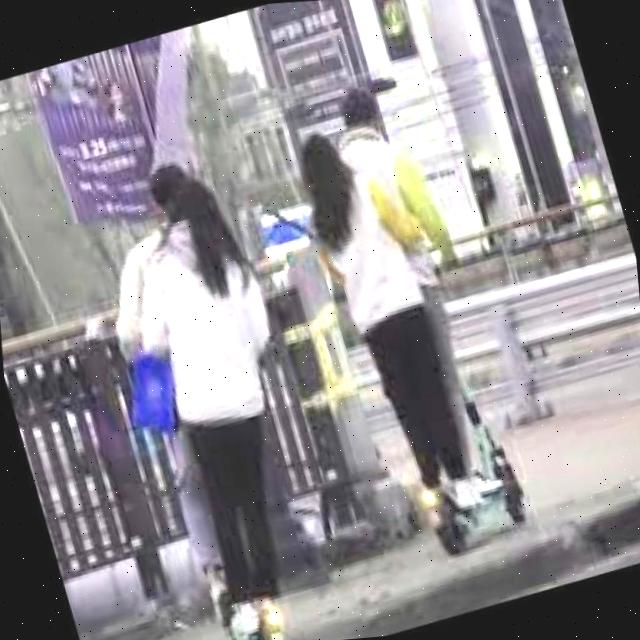bare_head: (157, 95, 229, 189)
human: (157, 94, 253, 587)
kickboard: (82, 526, 304, 617)
